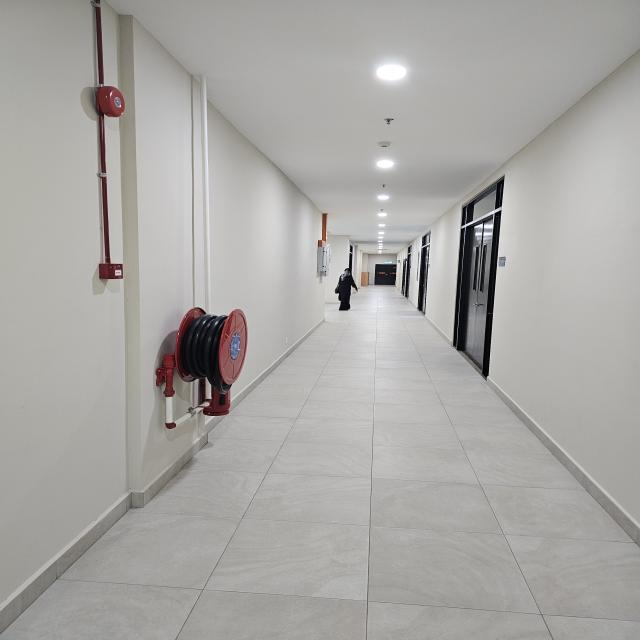door: (452, 174, 506, 378), (372, 261, 398, 286)
footpath: (262, 384, 573, 640)
obstacle: (150, 302, 253, 431)
person: (332, 266, 364, 314)
